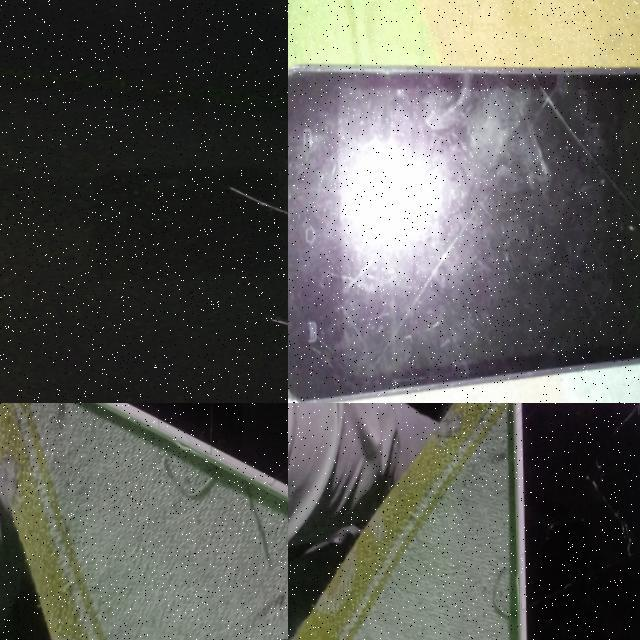scratch: (221, 184, 288, 233), (257, 314, 288, 351)
screen crack: (288, 68, 640, 398), (502, 403, 640, 462)
